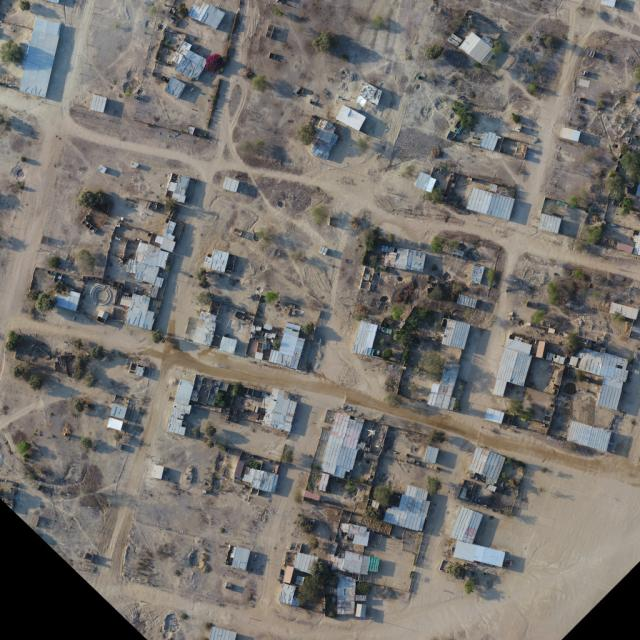building: (568, 346, 632, 411), (319, 410, 371, 481), (18, 17, 62, 97), (384, 481, 435, 533), (269, 321, 311, 370), (166, 39, 211, 84), (166, 379, 198, 436), (465, 186, 516, 221), (465, 444, 508, 485), (259, 387, 298, 432), (427, 359, 461, 410), (452, 539, 507, 570), (306, 118, 343, 160), (566, 419, 612, 452), (189, 375, 230, 411), (496, 347, 533, 386), (458, 30, 497, 67), (449, 505, 483, 545), (125, 294, 159, 331), (383, 246, 427, 273), (175, 48, 209, 82), (134, 241, 169, 268), (192, 311, 219, 346), (352, 321, 378, 356), (355, 82, 384, 112), (442, 319, 470, 350), (336, 104, 367, 131), (510, 351, 533, 386), (203, 248, 229, 274), (54, 288, 82, 311), (133, 262, 159, 285), (608, 303, 638, 321), (504, 337, 533, 355), (175, 379, 194, 406), (415, 172, 438, 194), (90, 284, 114, 305), (480, 130, 501, 152), (538, 213, 561, 233), (164, 77, 185, 98), (88, 94, 108, 114), (218, 336, 238, 355), (456, 293, 479, 309), (469, 264, 485, 285), (485, 407, 504, 424), (110, 404, 128, 421), (492, 379, 508, 398), (561, 127, 582, 141), (222, 176, 239, 193), (544, 351, 566, 364), (424, 446, 439, 463), (159, 237, 175, 252), (108, 417, 124, 431), (173, 403, 191, 414), (319, 472, 329, 491), (165, 221, 176, 237), (134, 365, 146, 378), (552, 353, 566, 364), (536, 341, 545, 358), (172, 53, 184, 64), (569, 356, 579, 368), (154, 277, 164, 288), (155, 235, 164, 244)
dryland: (212, 171, 342, 363), (237, 0, 394, 154), (0, 395, 126, 563), (377, 35, 472, 184), (59, 136, 173, 206), (542, 264, 639, 345), (11, 163, 56, 298), (426, 2, 525, 51), (560, 55, 617, 136), (46, 174, 94, 257), (5, 0, 61, 33), (510, 351, 533, 386), (595, 8, 625, 23), (41, 139, 57, 162)
greenland: (0, 329, 109, 398)
unmetalled_road: (88, 360, 180, 597), (285, 141, 442, 226), (165, 343, 354, 405), (541, 118, 640, 226), (525, 8, 579, 194), (411, 211, 571, 256), (35, 285, 154, 338), (450, 318, 509, 418), (568, 248, 640, 279), (222, 0, 251, 72), (498, 240, 520, 321), (44, 53, 71, 107), (355, 372, 393, 407), (223, 79, 247, 119), (130, 303, 152, 324), (236, 63, 246, 76)
